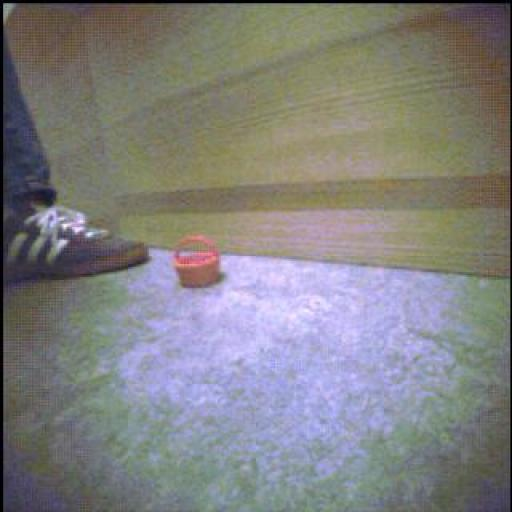Bucket: (165, 232, 228, 292)
